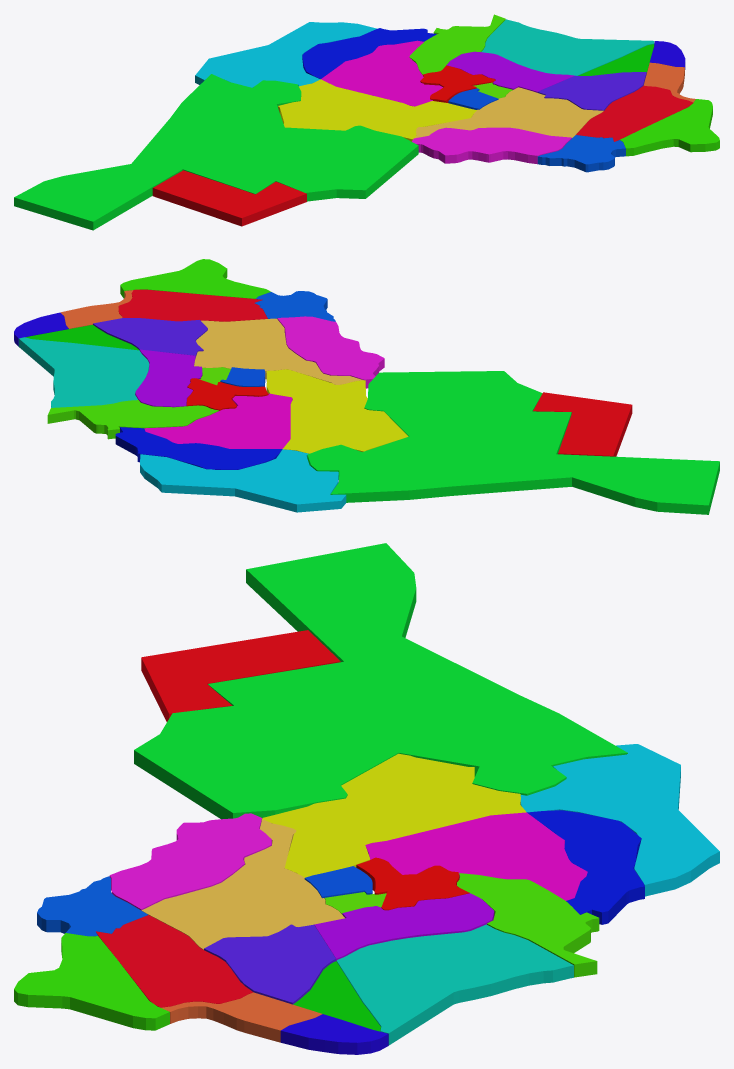
File: sanjuancityblockbuilding.glb
3 views of the same model, one above another, from view 1: azimuth 30°, elevation 25°; view 2: azimuth 150°, elevation 25°; view 3: azimuth 270°, elevation 25° (orthographic). The views are drawn at different scales.
Visible parts, largest first — view 1: Greenhills, LITTLE BAGUIO, Addition Hills, BATIS, West Crame, CORAZON DE JESUS, PASADENA, ST. LUCIA, BALONG-BATO, SALAPAN, MAYTUNAS, P.CRUZ (+8 smaller); view 2: Greenhills, Addition Hills, LITTLE BAGUIO, BATIS, CORAZON DE JESUS, ST. LUCIA, West Crame, PASADENA, BALONG-BATO, KABAYANAN, MAYTUNAS, SALAPAN (+8 smaller); view 3: Greenhills, LITTLE BAGUIO, BATIS, Addition Hills, CORAZON DE JESUS, ST. LUCIA, West Crame, PASADENA, SALAPAN, BALONG-BATO, MAYTUNAS, KABAYANAN (+9 smaller).
Part boxes in pixels (box(x1,y1,x2,y2)): Greenhills: box(14, 74, 418, 230); LITTLE BAGUIO: box(278, 79, 476, 141); Addition Hills: box(195, 22, 376, 87); BATIS: box(481, 19, 654, 75); West Crame: box(152, 170, 306, 226); CORAZON DE JESUS: box(415, 87, 603, 138); PASADENA: box(412, 127, 571, 164); ST. LUCIA: box(321, 40, 442, 106); BALONG-BATO: box(576, 85, 693, 141); SALAPAN: box(620, 99, 719, 156); MAYTUNAS: box(302, 28, 436, 78); P.CRUZ: box(537, 72, 646, 110); Greenhills: box(307, 371, 719, 514); Addition Hills: box(140, 449, 346, 512); LITTLE BAGUIO: box(266, 369, 408, 453); BATIS: box(18, 337, 149, 407); CORAZON DE JESUS: box(194, 318, 363, 384); ST. LUCIA: box(144, 393, 292, 448); West Crame: box(533, 392, 632, 456); PASADENA: box(277, 316, 384, 388); BALONG-BATO: box(118, 289, 267, 321); KABAYANAN: box(47, 400, 219, 439); MAYTUNAS: box(115, 427, 282, 469); SALAPAN: box(120, 259, 270, 298); Greenhills: box(134, 543, 627, 819); LITTLE BAGUIO: box(261, 753, 526, 877); BATIS: box(336, 924, 573, 1045); Addition Hills: box(520, 744, 719, 896); CORAZON DE JESUS: box(141, 819, 344, 949); ST. LUCIA: box(365, 812, 587, 900); West Crame: box(141, 630, 340, 721); PASADENA: box(109, 813, 271, 910); SALAPAN: box(14, 933, 169, 1030); BALONG-BATO: box(96, 915, 253, 1007); MAYTUNAS: box(527, 810, 644, 924); KABAYANAN: box(457, 873, 599, 977).
Bounding box in the file's own units: 622 × 8.95 × 372.
